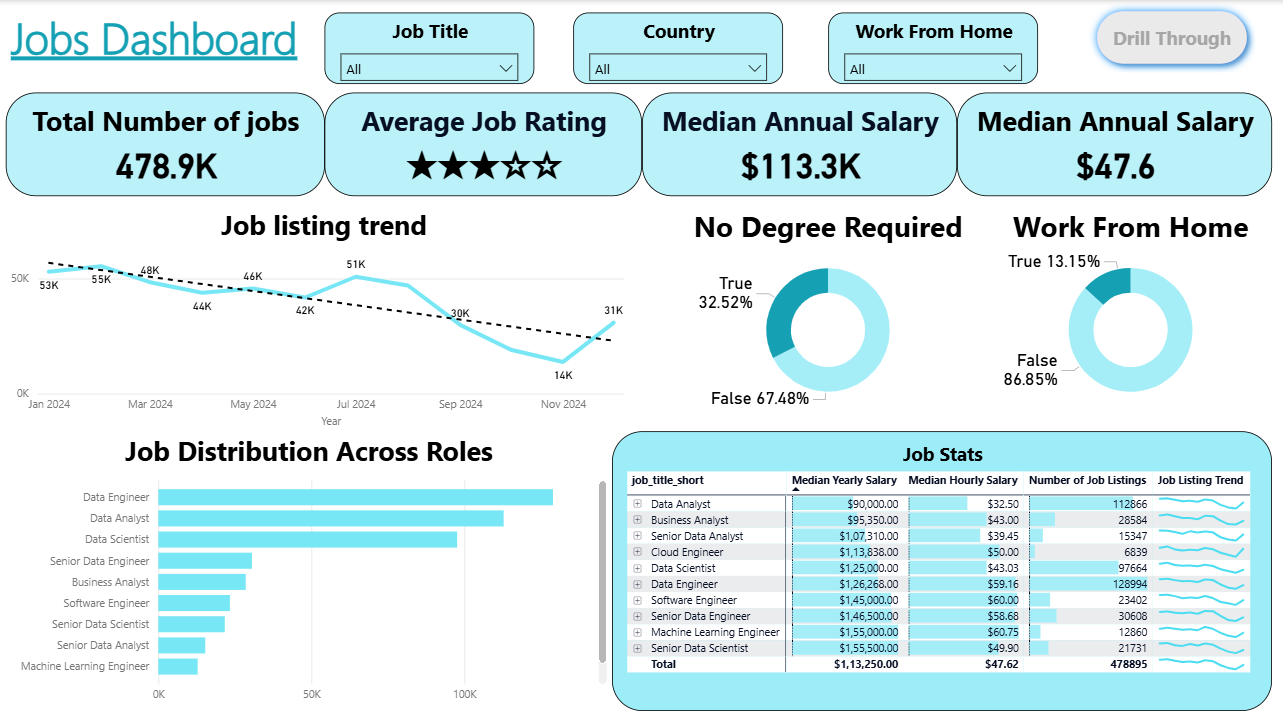

What the dashboard file says about the page in this screenshot:
{"tool":"powerbi","page":{"name":"Project: Jobs Dashboard","canvas":[1280,720],"ordinal":0},"visuals":[{"type":"textbox","box":[0,0,311,72.1],"z":0},{"type":"slicer","title":"Job Title","fields":{"Values":["job_postings_flat.job_title_short"]},"box":[325.9,2.5,209,70.9],"z":1000},{"type":"card","title":"Median Annual Salary","fields":{"Values":["Median(job_postings_flat.salary_year_avg)"]},"box":[641.9,92.1,313.5,103.2],"z":2000},{"type":"card","title":"Median Annual Salary","fields":{"Values":["Median(job_postings_flat.salary_hour_avg)"]},"box":[955.4,92.1,324.7,103.2],"z":3000},{"type":"card","title":"Total Number of jobs","fields":{"Values":["CountNonNull(job_postings_flat.job_title_short)"]},"box":[0,92.1,325.9,103.2],"z":4000},{"type":"card","title":"Average Job Rating","fields":{"Values":["job_postings_flat.Star Rating"]},"box":[325.9,92.1,316,103.2],"z":5000},{"type":"lineChart","title":"Job listing trend","fields":{"Y":["CountNonNull(job_postings_flat.job_title_short)"],"Category":["job_postings_flat.job_posted_date.Variation.Date Hierarchy.Year","job_postings_flat.job_posted_date.Variation.Date Hierarchy.Quarter","job_postings_flat.job_posted_date.Variation.Date Hierarchy.Month","job_postings_flat.job_posted_date.Variation.Date Hierarchy.Day"]},"box":[0,214,639.4,225.2],"z":6000},{"type":"barChart","title":"Job Distribution Across Roles","fields":{"Category":["job_postings_flat.job_title_short"],"Y":["CountNonNull(job_postings_flat.job_title_short)"]},"box":[0,449.1,612,271.2],"z":7000},{"type":"donutChart","title":"No Degree Required","fields":{"Category":["job_postings_flat.job_no_degree_mention"],"Y":["CountNonNull(job_postings_flat.job_title_short)"]},"box":[641.9,214,334.6,225.2],"z":8000},{"type":"donutChart","title":"Work From Home","fields":{"Y":["CountNonNull(job_postings_flat.job_title_short)"],"Category":["job_postings_flat.job_work_from_home"]},"box":[976.5,214,303.5,225.2],"z":9000},{"type":"slicer","title":"Country","fields":{"Values":["job_postings_flat.job_country"]},"box":[573.5,1.2,209,70.9],"z":10000},{"type":"pivotTable","title":"Job Stats","fields":{"Rows":["job_postings_flat.job_title_short","job_postings_flat.job_posted_date.Variation.Date Hierarchy.Quarter"],"Values":["Median(job_postings_flat.salary_year_avg)","Median(job_postings_flat.salary_hour_avg)","CountNonNull(job_postings_flat.job_title_short)","SparklineData(CountNonNull(job_postings_flat.job_title_short)_[job_postings_flat.job_posted_date.Variation.Date Hierarch"]},"box":[622,449.1,655.6,271.2],"z":11000},{"type":"slicer","title":"Work From Home","fields":{"Values":["job_postings_flat.job_work_from_home"]},"box":[832.2,1.2,209,70.9],"z":12000},{"type":"actionButton","box":[1086,2.5,166.7,69.7],"z":14000}]}

Visuals, with their boxes in screenshot pixels (x1, y1, x2, y2), scaled from the page's 1280x720 canvas onto the 1283x719 screenshot:
textbox: region(0, 0, 312, 72)
"Job Title" slicer: region(327, 2, 536, 73)
"Median Annual Salary" card: region(643, 92, 958, 195)
"Median Annual Salary" card: region(958, 92, 1282, 195)
"Total Number of jobs" card: region(0, 92, 327, 195)
"Average Job Rating" card: region(327, 92, 643, 195)
"Job listing trend" lineChart: region(0, 214, 641, 439)
"Job Distribution Across Roles" barChart: region(0, 448, 613, 718)
"No Degree Required" donutChart: region(643, 214, 979, 439)
"Work From Home" donutChart: region(979, 214, 1282, 439)
"Country" slicer: region(575, 1, 784, 72)
"Job Stats" pivotTable: region(623, 448, 1281, 718)
"Work From Home" slicer: region(834, 1, 1044, 72)
actionButton: region(1089, 2, 1256, 72)
